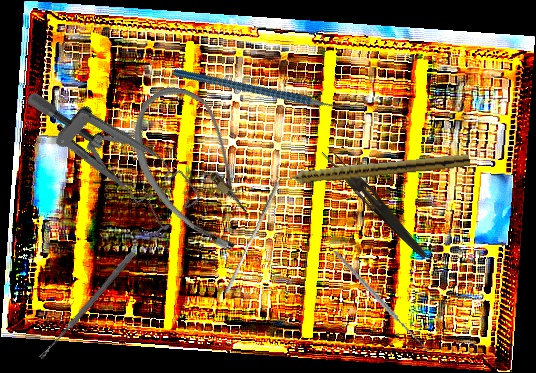Cannula: (108, 72, 285, 266)
Chopper: (172, 9, 363, 166)
Dressing Forceps: (317, 145, 433, 261)
Handpiece: (275, 149, 471, 188)
Hook Surgical: (333, 233, 436, 368)
Pusher: (224, 179, 280, 296)
Speculum: (22, 50, 206, 251)
Surgical Spoon: (38, 250, 136, 361)
